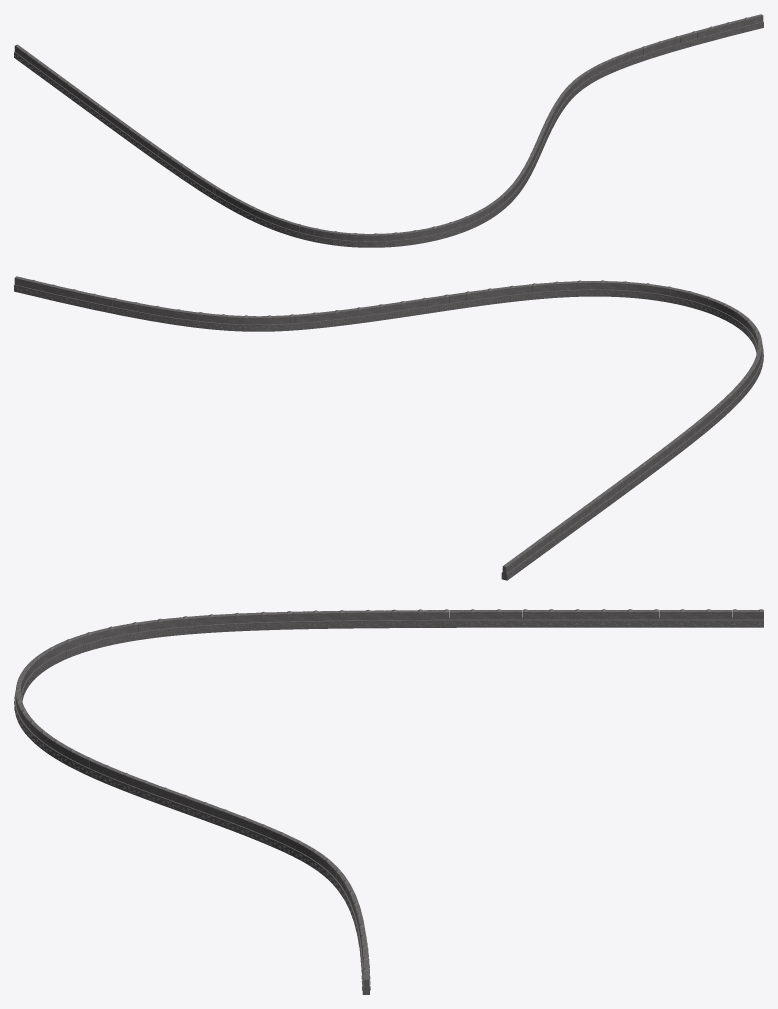
The model's file is Pagarbanyak4.fbx.
The picture shows the model from 3 angles, top to bottom: view 1: azimuth 30°, elevation 25°; view 2: azimuth 150°, elevation 25°; view 3: azimuth 270°, elevation 25°; orthographic projection. The views are drawn at different scales.
Visible parts, largest first — view 1: Tembok.001; view 2: Tembok.001; view 3: Tembok.001.
Boxes of the visible parts, x1,y1,x2,y2 form: Tembok.001: (14, 14, 763, 247); Tembok.001: (14, 276, 763, 580); Tembok.001: (14, 609, 763, 994).
Size of the model in its own units: 8284 by 178 by 7086.
